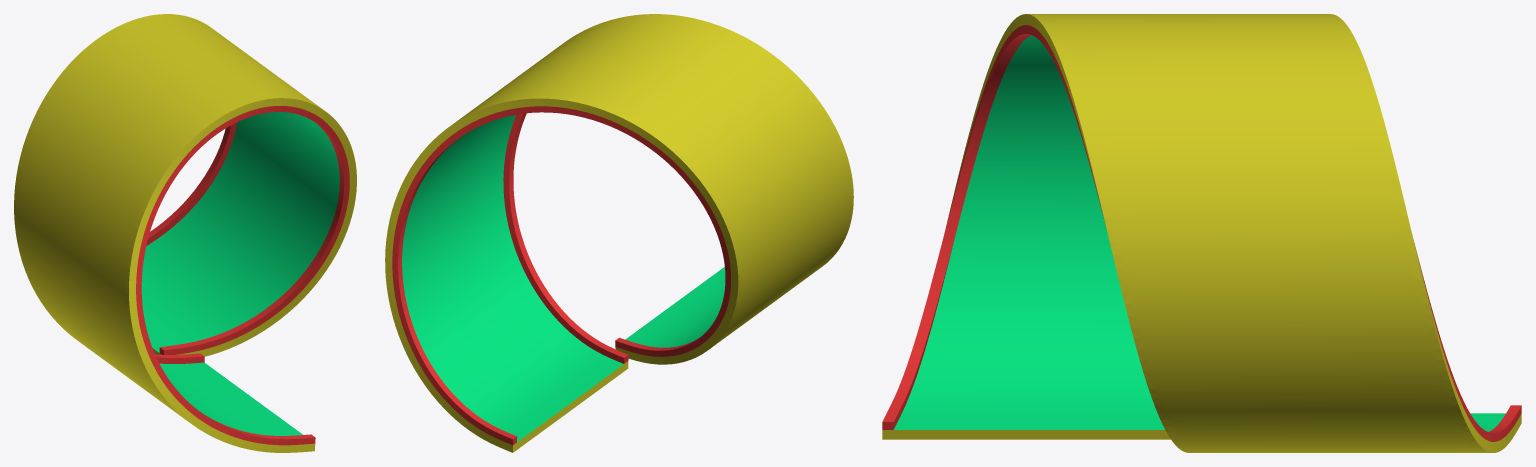
File: RibbonLoop_Wall.fbx
3 renders of one model, left to right at view 1: azimuth 30°, elevation 25°; view 2: azimuth 150°, elevation 25°; view 3: azimuth 270°, elevation 25°, orthographic. The views are drawn at different scales.
Visible parts, largest first — view 1: loop:pHelix1; view 2: loop:pHelix1; view 3: loop:pHelix1.
Boxes of the visible parts, x1=… form: loop:pHelix1: x1=14, y1=14, x2=356, y2=452; loop:pHelix1: x1=385, y1=14, x2=853, y2=452; loop:pHelix1: x1=882, y1=14, x2=1521, y2=452.
Bounding box in the file's own units: 5.03 × 5.05 × 7.33.
